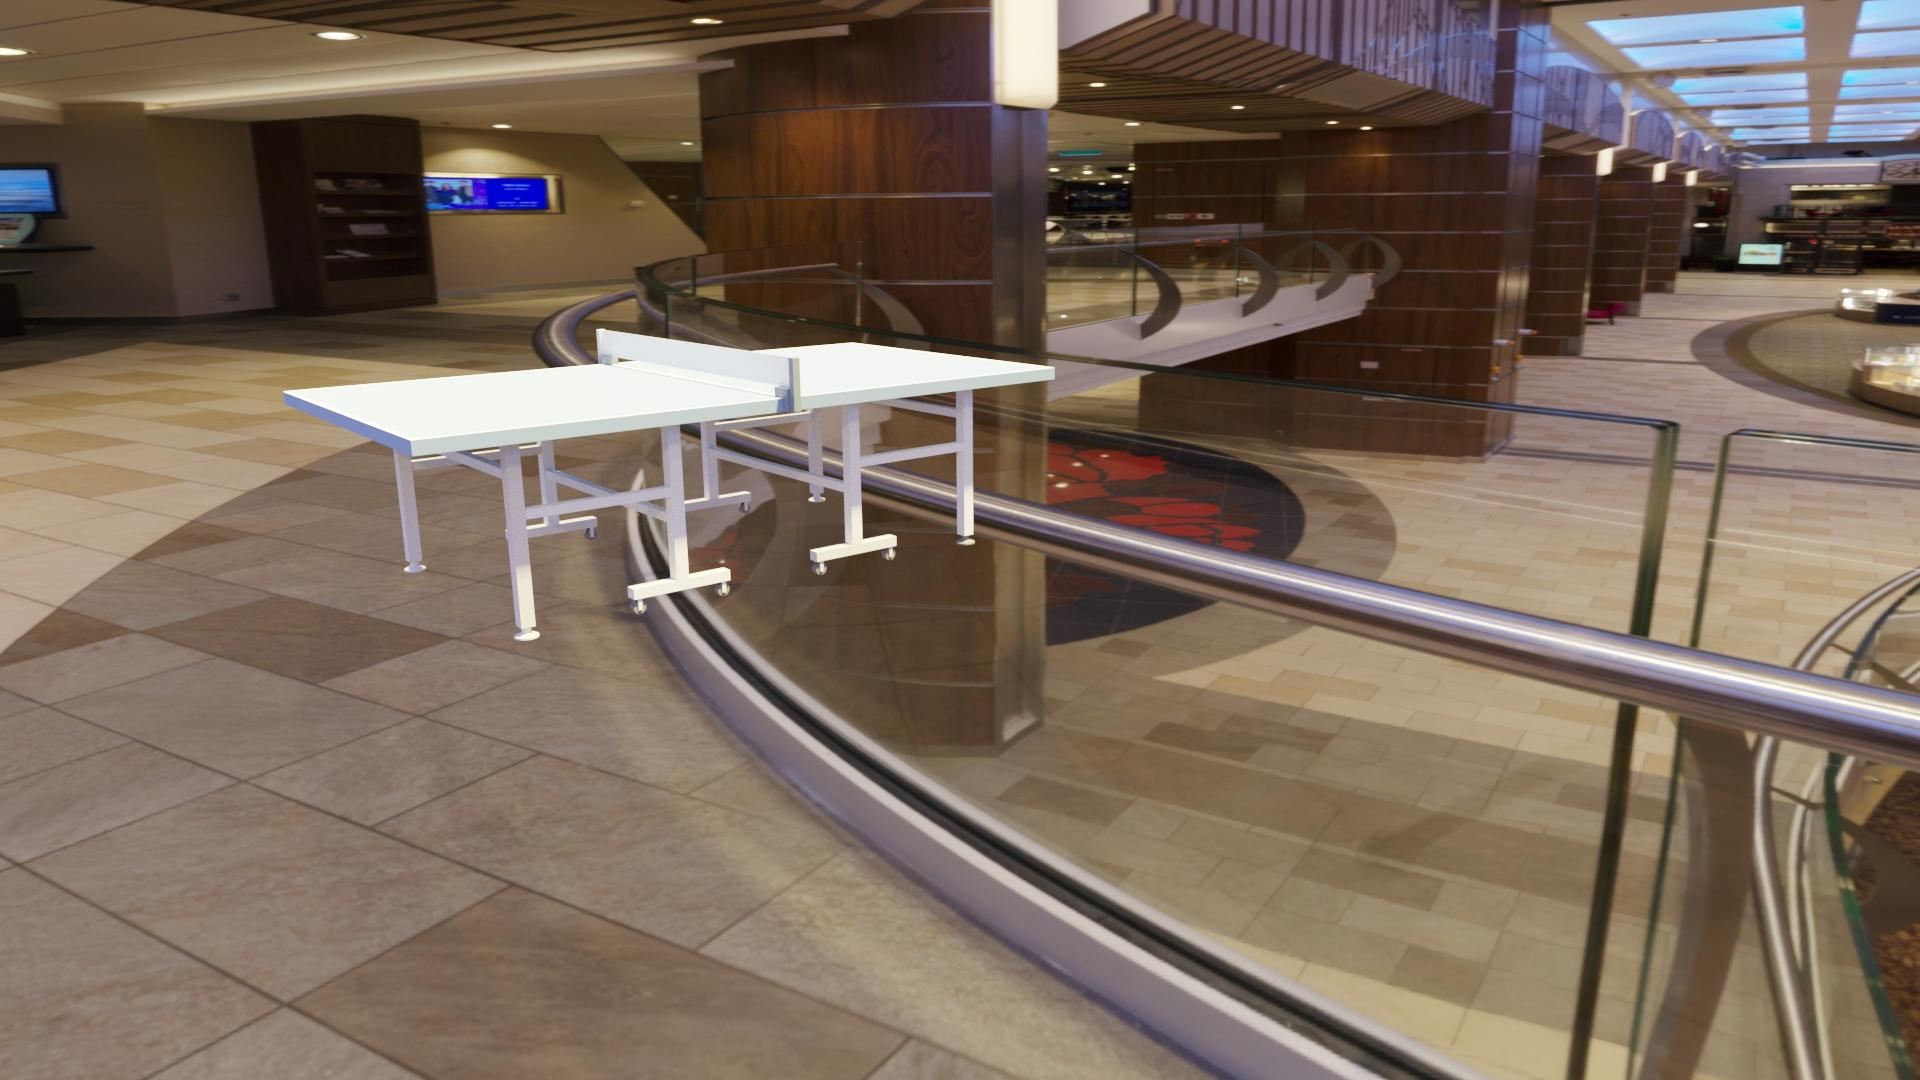table: (290, 343, 1048, 439)
